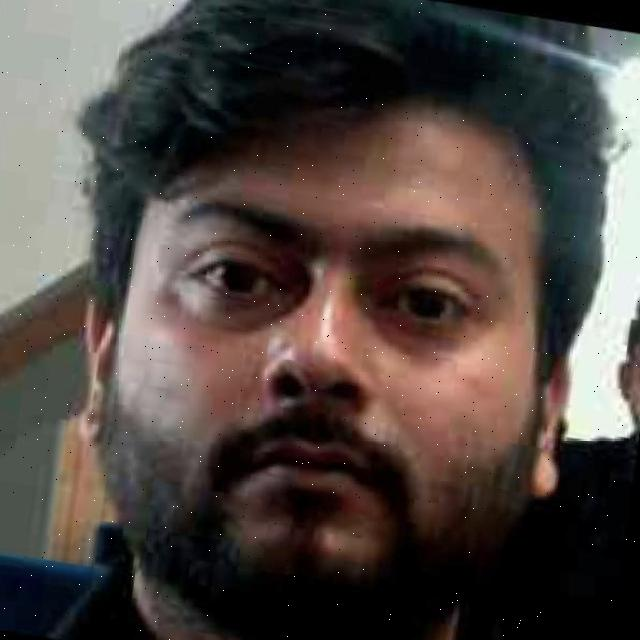puffy_eyes: (173, 278, 301, 336), (375, 317, 460, 361)
